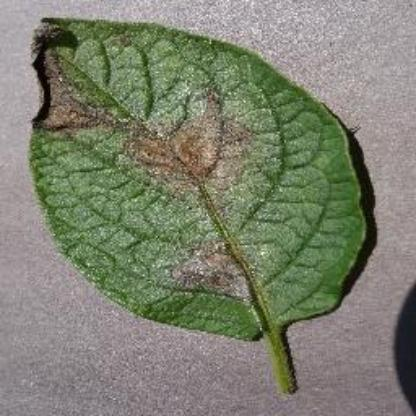Late-Blight: (26, 11, 374, 402)
